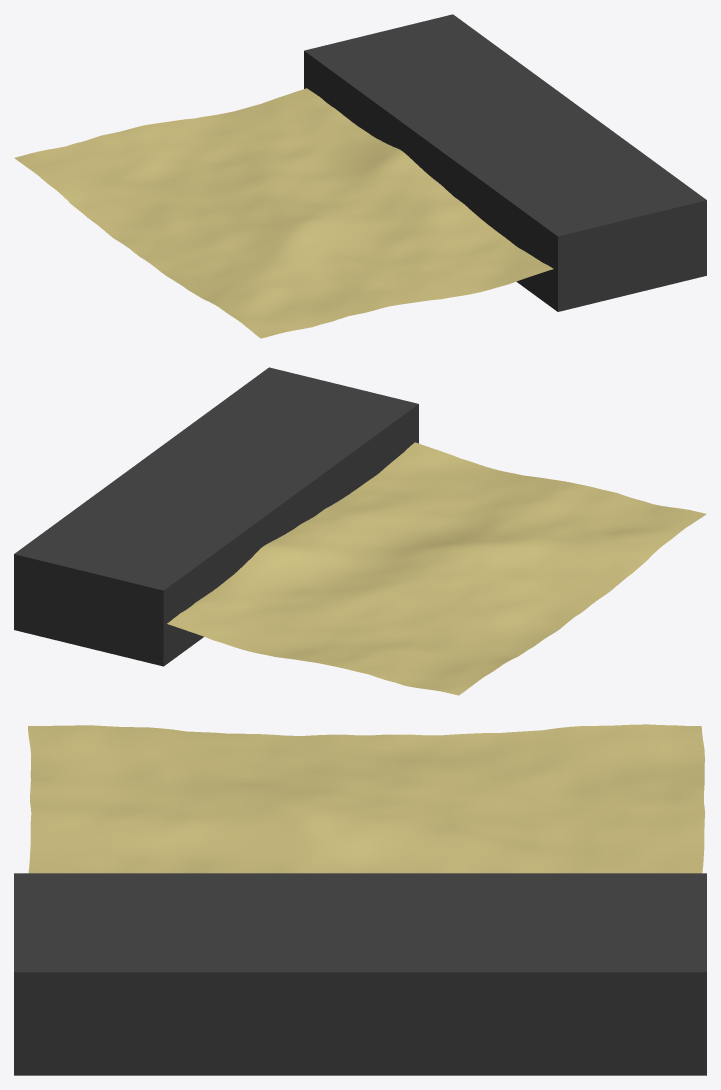
File: chão v1.3.fbx
3 views of the same model, one above another, from view 1: azimuth 30°, elevation 25°; view 2: azimuth 150°, elevation 25°; view 3: azimuth 270°, elevation 25° (orthographic). The views are drawn at different scales.
Parts seen in each view (by area): view 1: Cube.001, Cube; view 2: Cube.001, Cube; view 3: Cube, Cube.001.
Part boxes in pixels (x1=…): Cube.001: x1=14, y1=88, x2=553, y2=338; Cube: x1=304, y1=14, x2=706, y2=311; Cube.001: x1=167, y1=442, x2=706, y2=695; Cube: x1=14, y1=367, x2=418, y2=666; Cube: x1=14, y1=873, x2=706, y2=1075; Cube.001: x1=28, y1=724, x2=704, y2=873.
Bounding box in the file's own units: 1607 × 262 × 1599.
